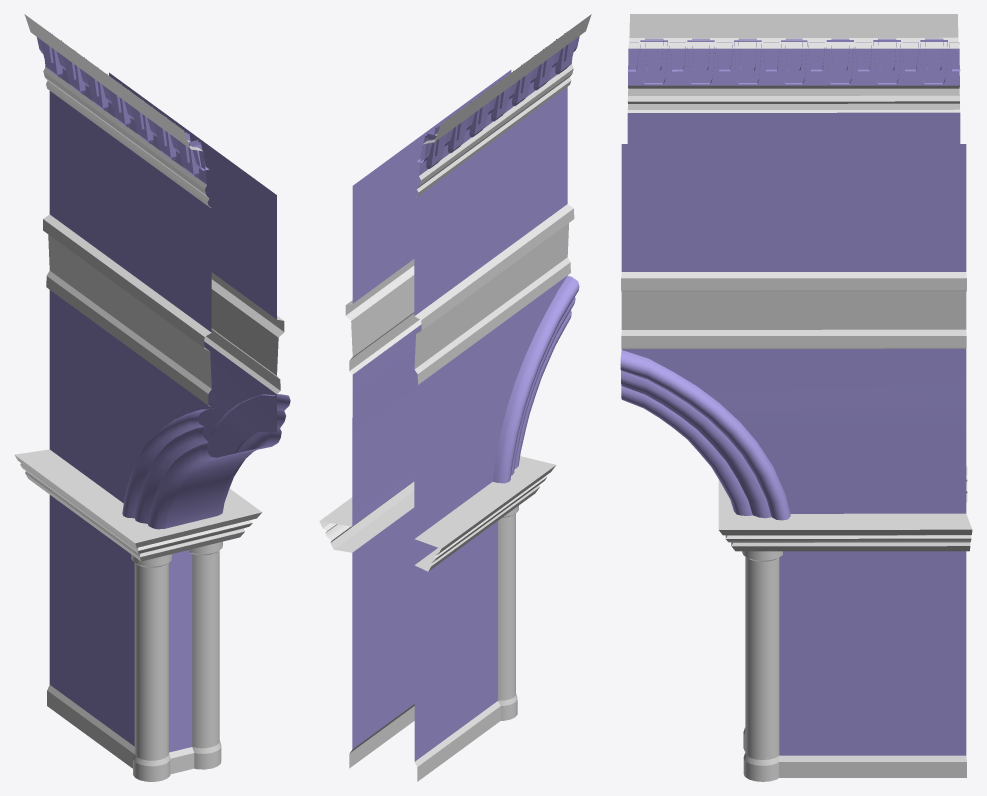
Rendered from Arch End Right.fbx.
3 views of the same model, side by side, from view 1: azimuth 30°, elevation 25°; view 2: azimuth 150°, elevation 25°; view 3: azimuth 270°, elevation 25° (orthographic). The views are drawn at different scales.
Parts seen in each view (by area): view 1: Arch End Right_LOD0; view 2: Arch End Right_LOD0; view 3: Arch End Right_LOD0.
Boxes of the visible parts, x1,y1,x2,y2 form: Arch End Right_LOD0: [14, 14, 290, 781]; Arch End Right_LOD0: [319, 14, 591, 781]; Arch End Right_LOD0: [620, 14, 972, 781].
Size of what is drawn, in the model's own units: 161 by 844 by 375.
